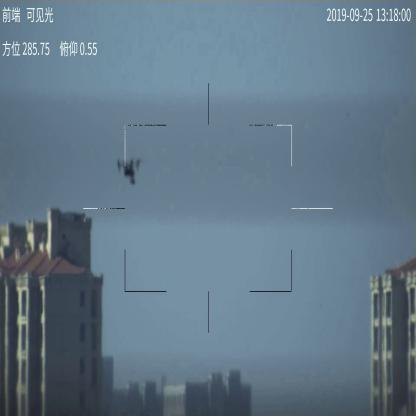uav: (116, 155, 143, 185)
